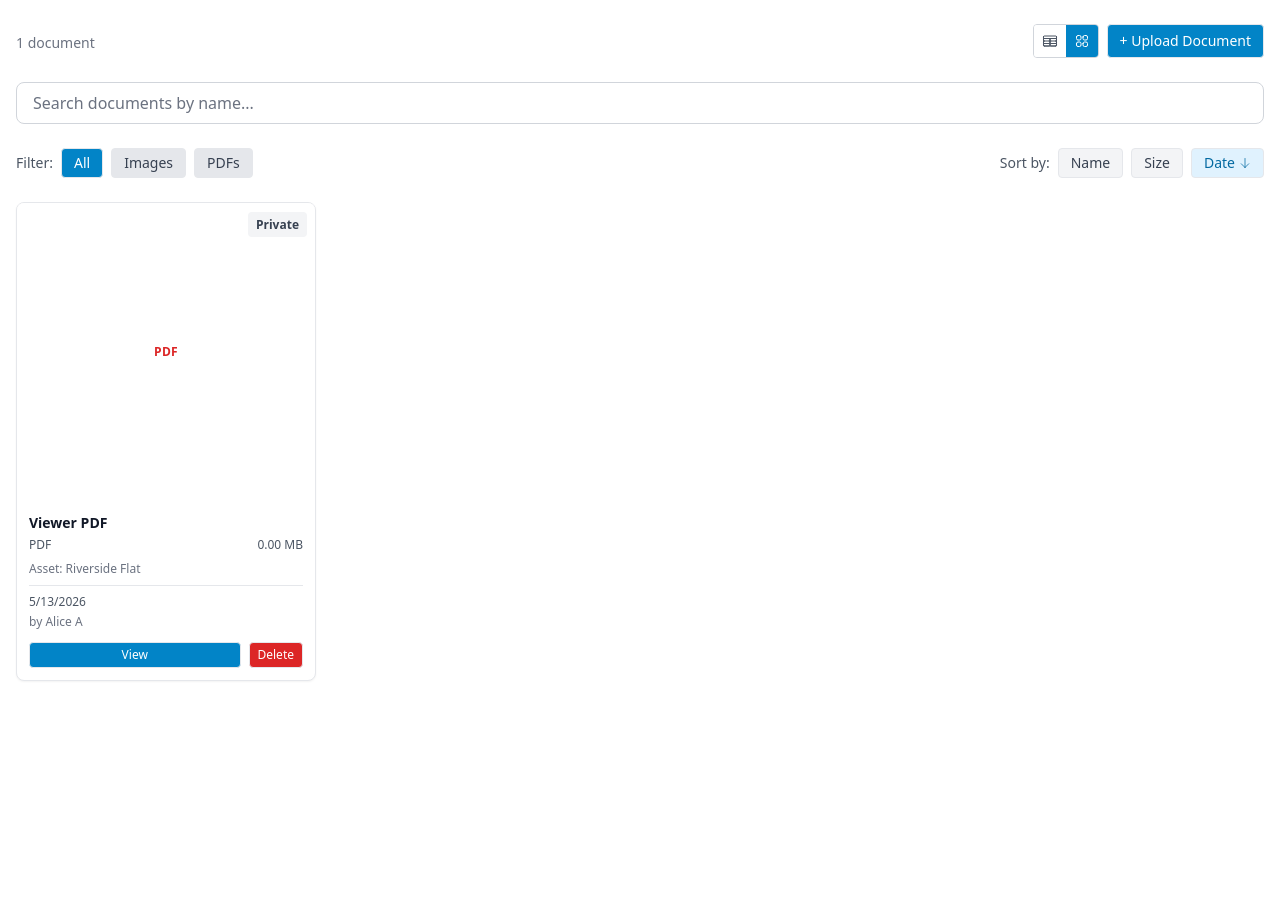
DocumentsPage › opens viewer modal with metadata panel and download action
Expected: the text "Viewer PDF" is shown, [29,513,108,532]
Click the button "View". click: (135, 655)
box: [29,642,240,668]
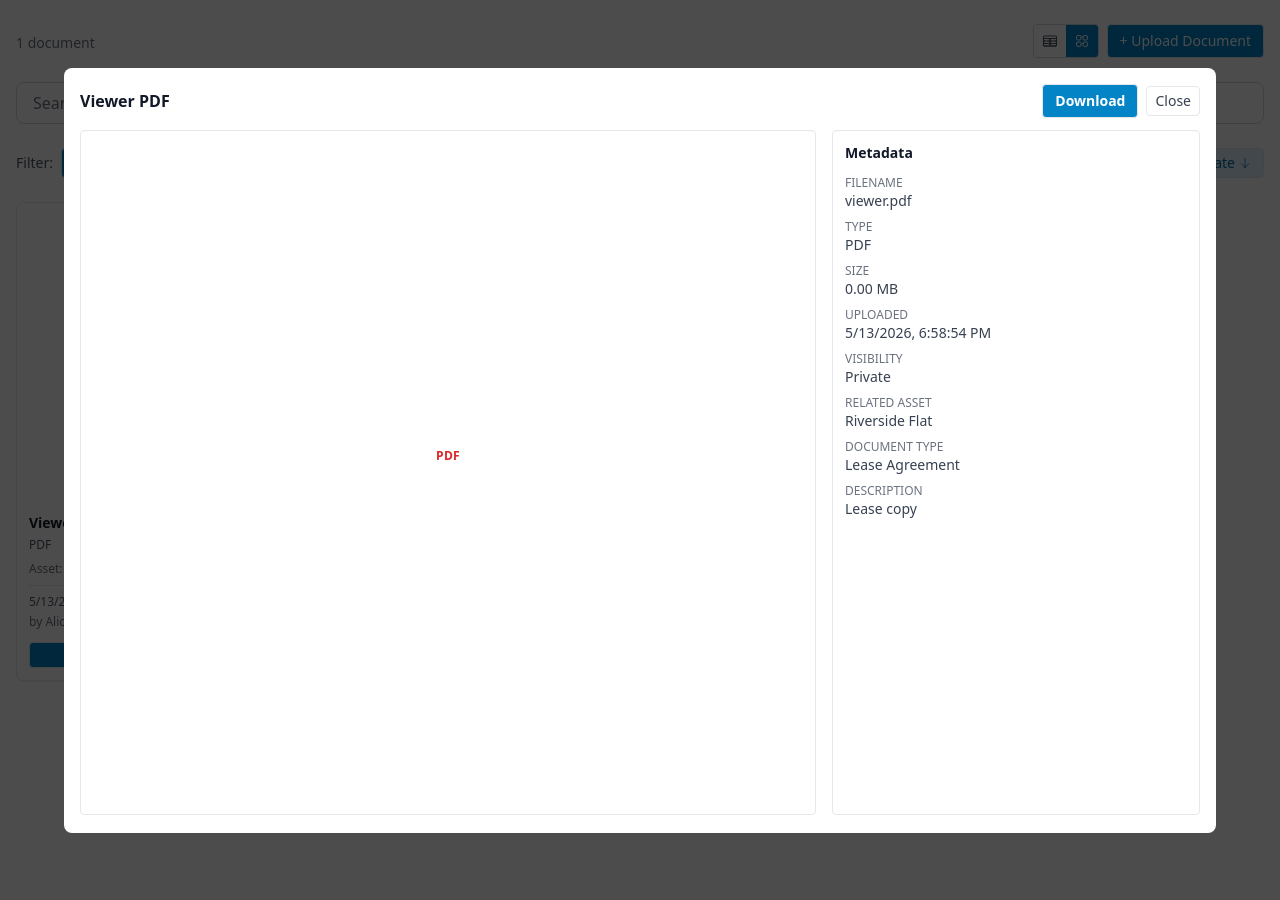
Now the heading "Metadata" is shown, box [845,142,913,162]
Now the link "Download" is shown, box [1042,84,1138,118]
Now the text "Lease copy" is shown, box [845,498,917,518]
